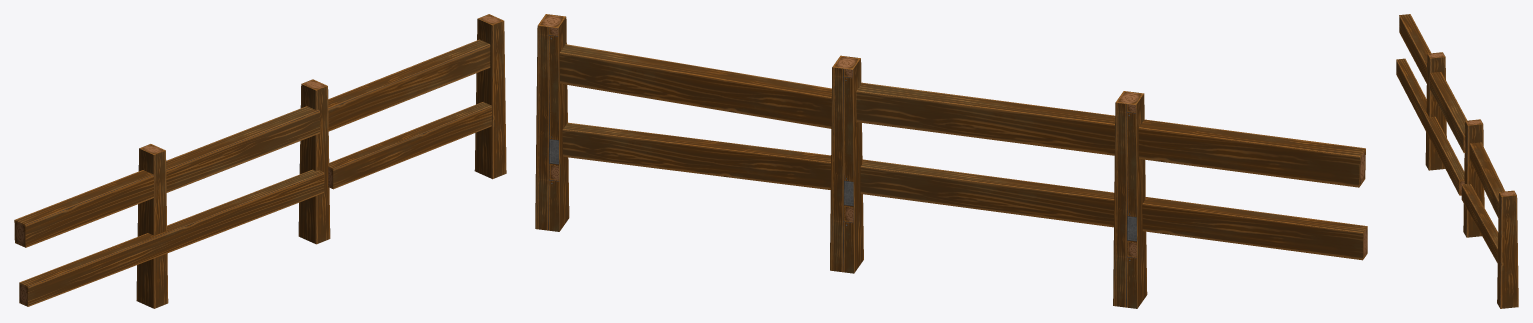
The picture shows the model from 3 angles, left to right: view 1: azimuth 30°, elevation 25°; view 2: azimuth 150°, elevation 25°; view 3: azimuth 270°, elevation 25°; orthographic projection. The views are drawn at different scales.
Visible parts, largest first — view 1: Cube.1621; view 2: Cube.1621; view 3: Cube.1621.
Part boxes in pixels (box(x1,y1,x2,y2)): Cube.1621: box(14, 14, 506, 308); Cube.1621: box(535, 14, 1367, 308); Cube.1621: box(1396, 14, 1518, 308).
Size of the model in its own units: 500 by 132 by 131.
1 material, 1 textured.
